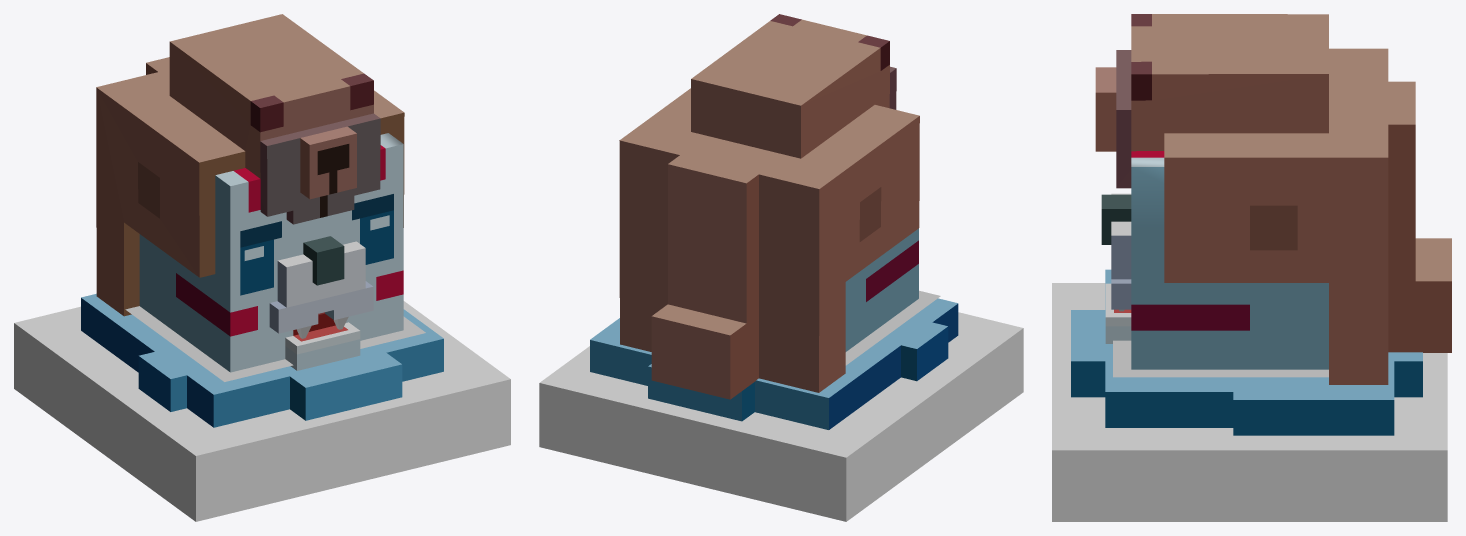
File: Tower_Polar_L4.fbx
3 renders of one model, left to right at view 1: azimuth 30°, elevation 25°; view 2: azimuth 150°, elevation 25°; view 3: azimuth 270°, elevation 25°, orthographic. The views are drawn at different scales.
Visible parts, largest first — view 1: Hat, Base, Body, Platform, Shadow, Jaw; view 2: Hat, Base, Platform, Body, Shadow; view 3: Hat, Base, Body, Platform, Shadow, Jaw.
Boxes of the visible parts, x1=… form: Hat: x1=96, y1=14, x2=404, y2=316; Base: x1=14, y1=301, x2=510, y2=521; Body: x1=139, y1=133, x2=403, y2=372; Platform: x1=81, y1=293, x2=443, y2=427; Shadow: x1=125, y1=306, x2=425, y2=381; Jaw: x1=285, y1=322, x2=360, y2=370; Hat: x1=619, y1=14, x2=919, y2=399; Base: x1=539, y1=312, x2=1023, y2=521; Platform: x1=590, y1=298, x2=958, y2=429; Body: x1=845, y1=228, x2=918, y2=351; Shadow: x1=845, y1=290, x2=940, y2=365; Hat: x1=1095, y1=14, x2=1451, y2=384; Base: x1=1052, y1=283, x2=1447, y2=521; Body: x1=1101, y1=151, x2=1328, y2=369; Platform: x1=1071, y1=269, x2=1422, y2=435; Shadow: x1=1113, y1=340, x2=1328, y2=377; Jaw: x1=1105, y1=283, x2=1131, y2=343.
Size of the model in its own units: 100 by 110 by 101.
